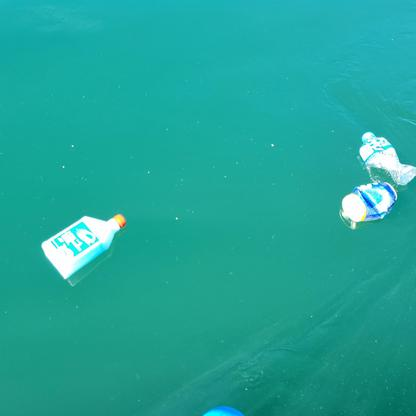can: (342, 180, 397, 222)
plastic bottle: (40, 214, 128, 277), (357, 125, 416, 187)
